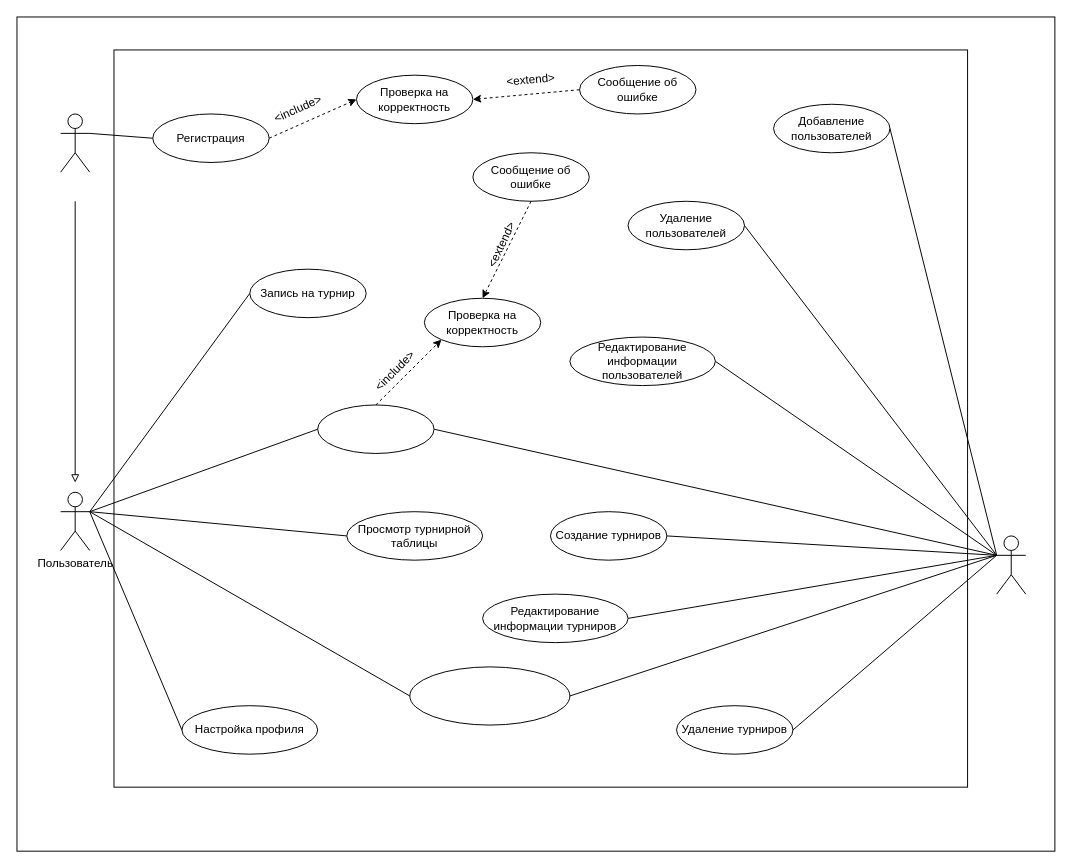
Some shapes in this 1072 by 868 pixel diagram are drawn without their labels. Here are the shapes that lost their labels. From the top down, the centre of each, then its label:
At point 75,142: "Гость".
At point 375,428: "Авторизация".
At point 1011,564: "Администратор".
At point 489,695: "Создание Excel таблицы турнира".
